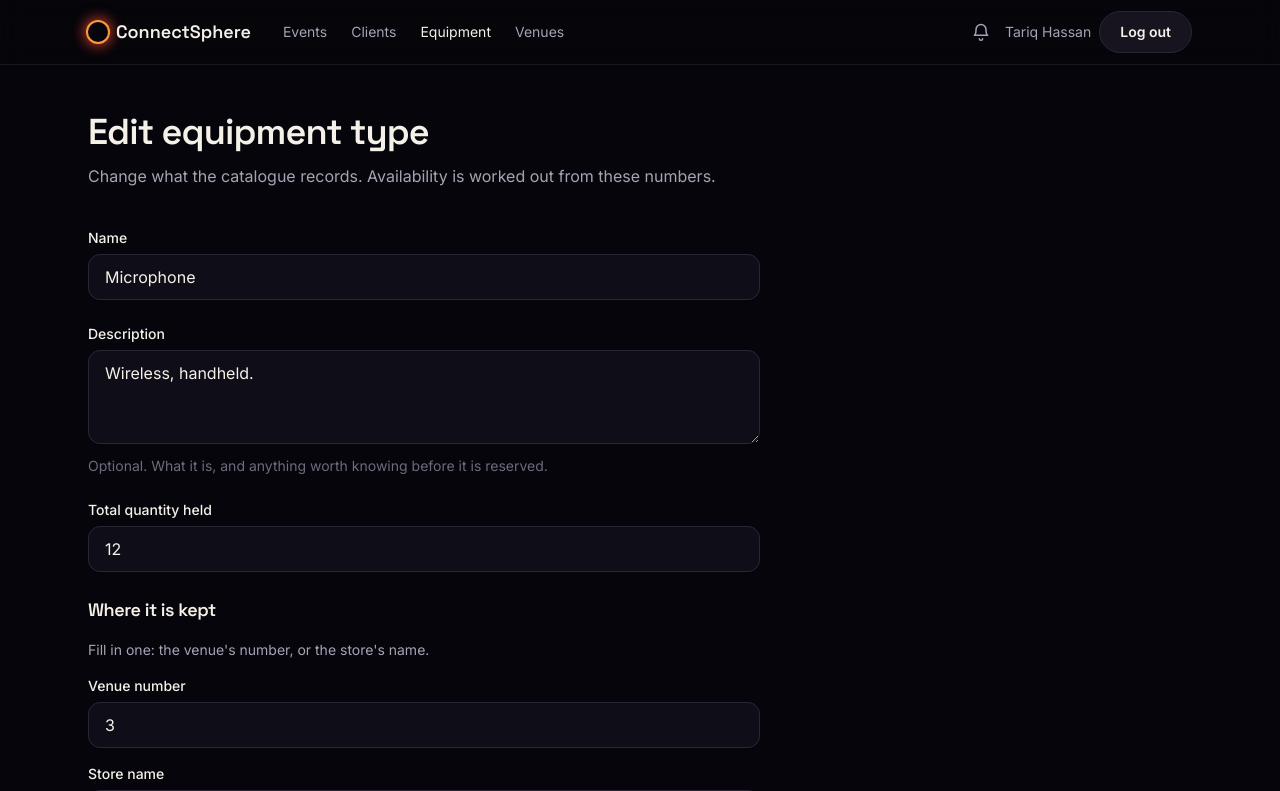
Test: SCRUM-27 editing an equipment type › shows the button as busy while the backend saves
Replace the text in the number field labelled "Total quantity held" with "21" at (424, 549), box left=88, top=526, right=760, bottom=572
(page scrolled)
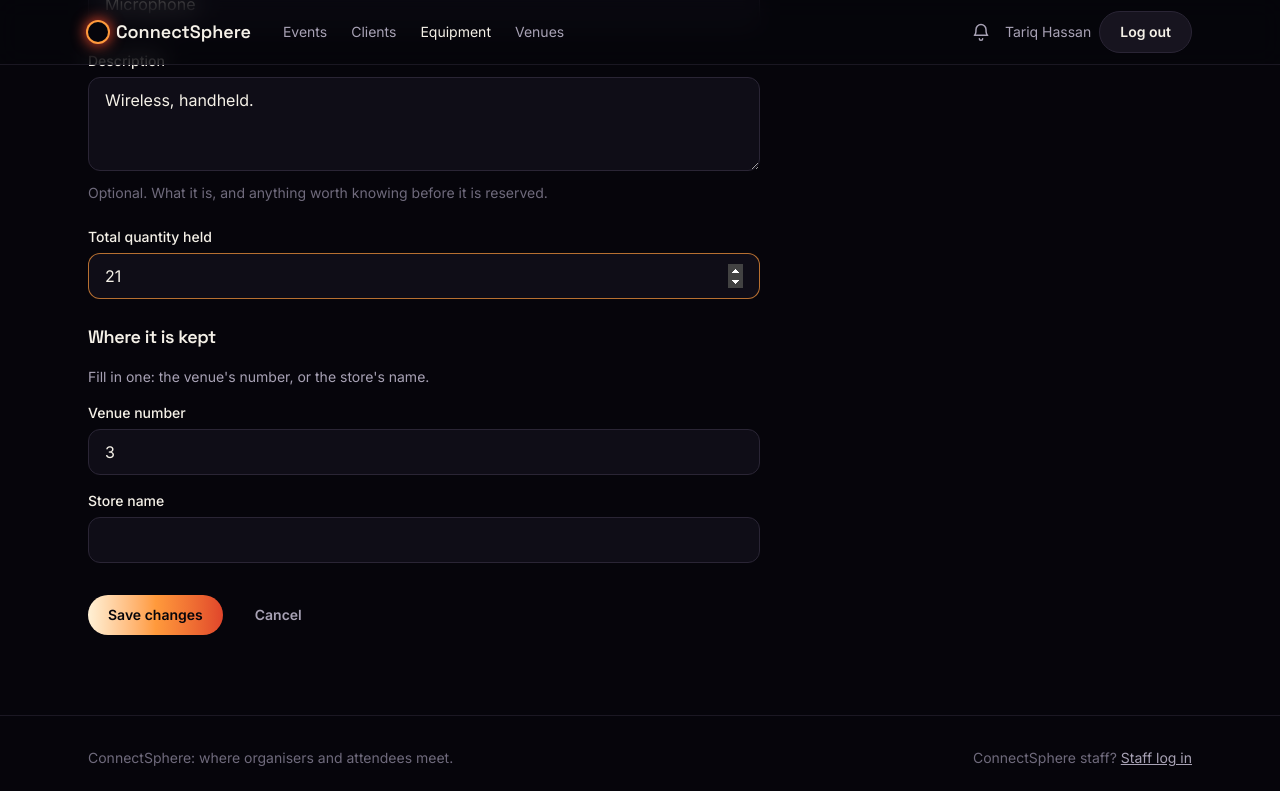
Click the button "Save changes" at (155, 615), box left=88, top=595, right=223, bottom=635
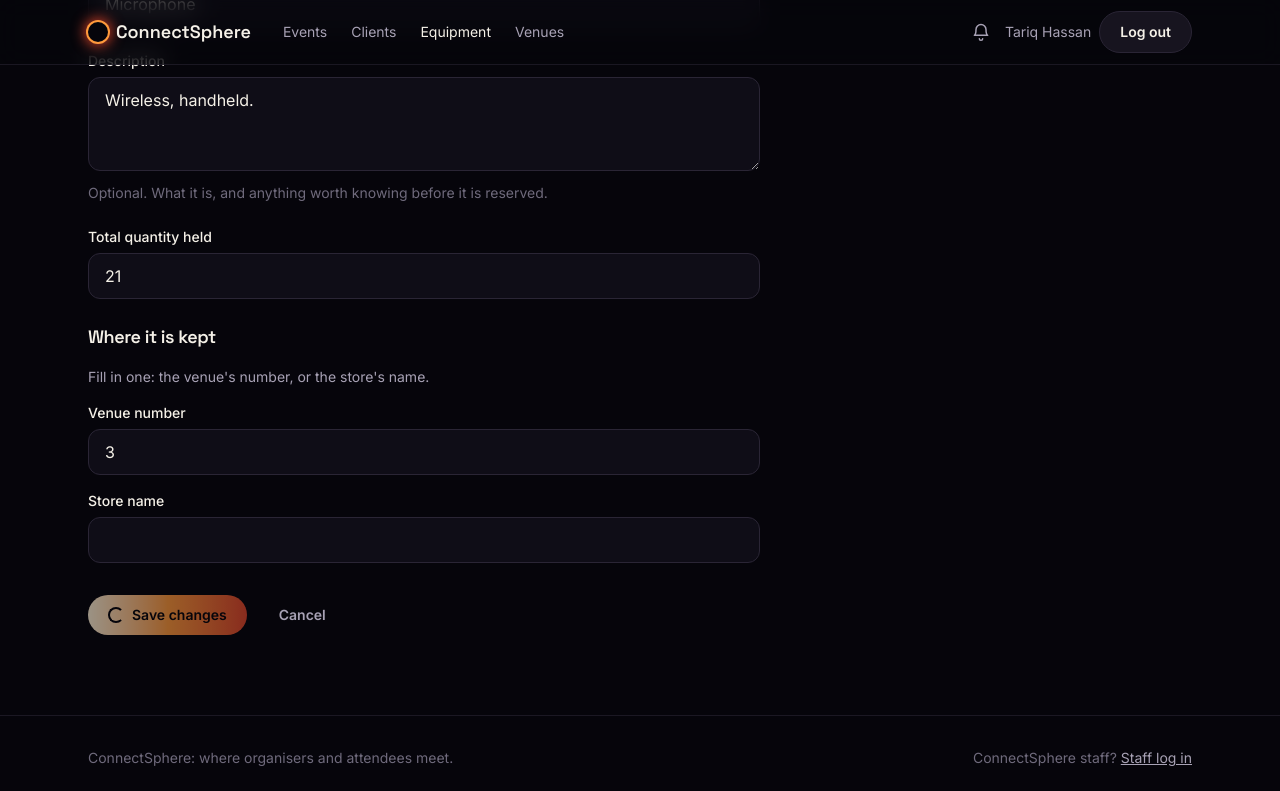
Expected: the button "Save changes" is disabled, left=88, top=595, right=247, bottom=635
